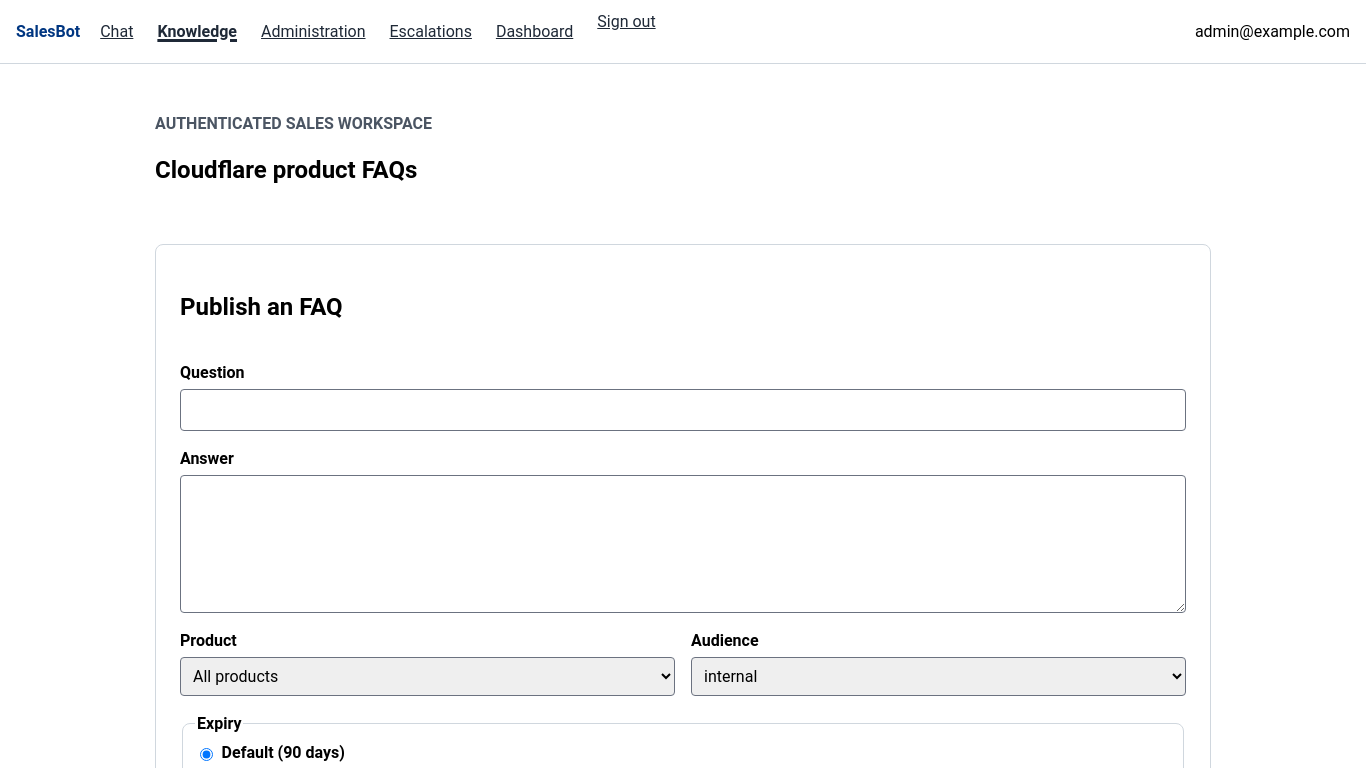
SalesBot shell › shows the administrator freshness view only after it is opened
Click the button with class "nav-link" showing "Administration" at (313, 32), box [257,10,370,54]
(page scrolled)
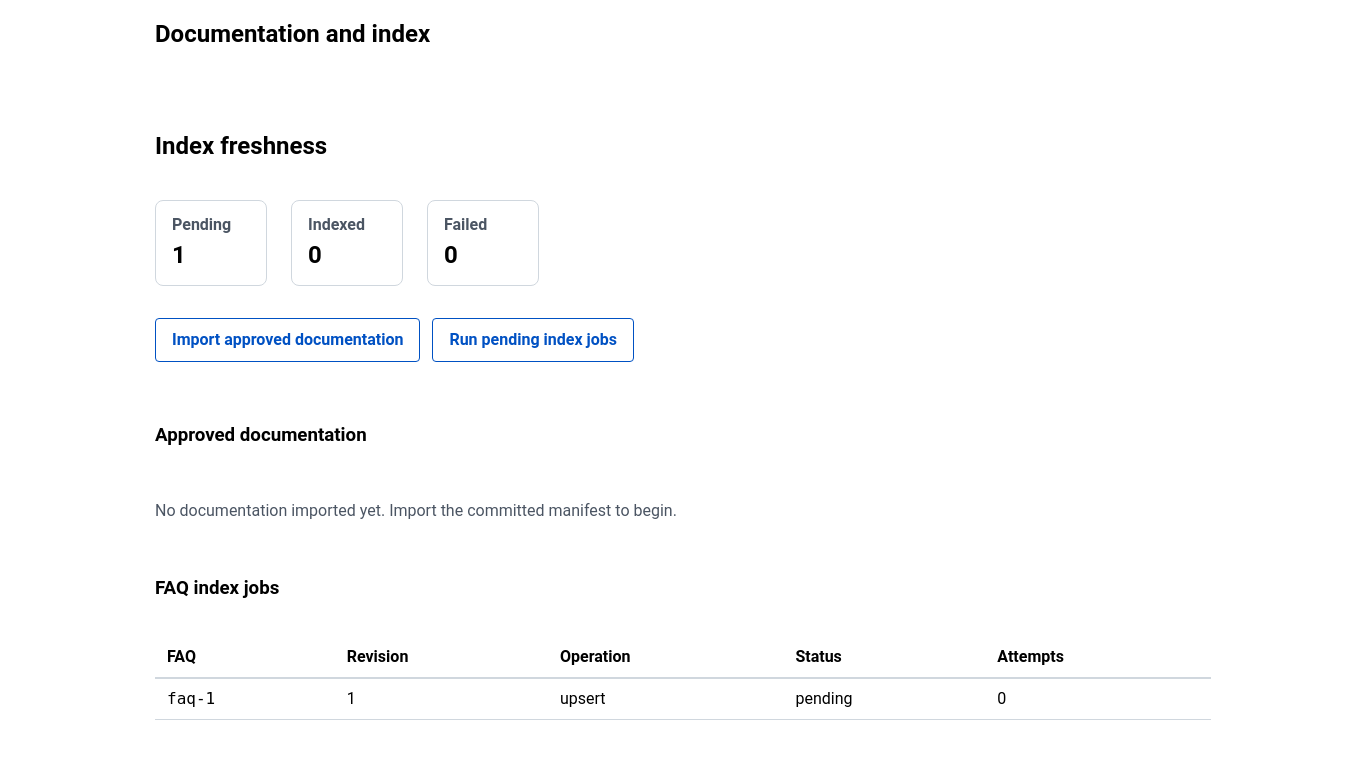
Expected: the heading with id "freshness-heading" reads "Index freshness", [155,132,327,160]
Expected: the text "Pending" is shown, [172,215,231,234]
Expected: the table shows "faq-1", [167,689,215,708]
